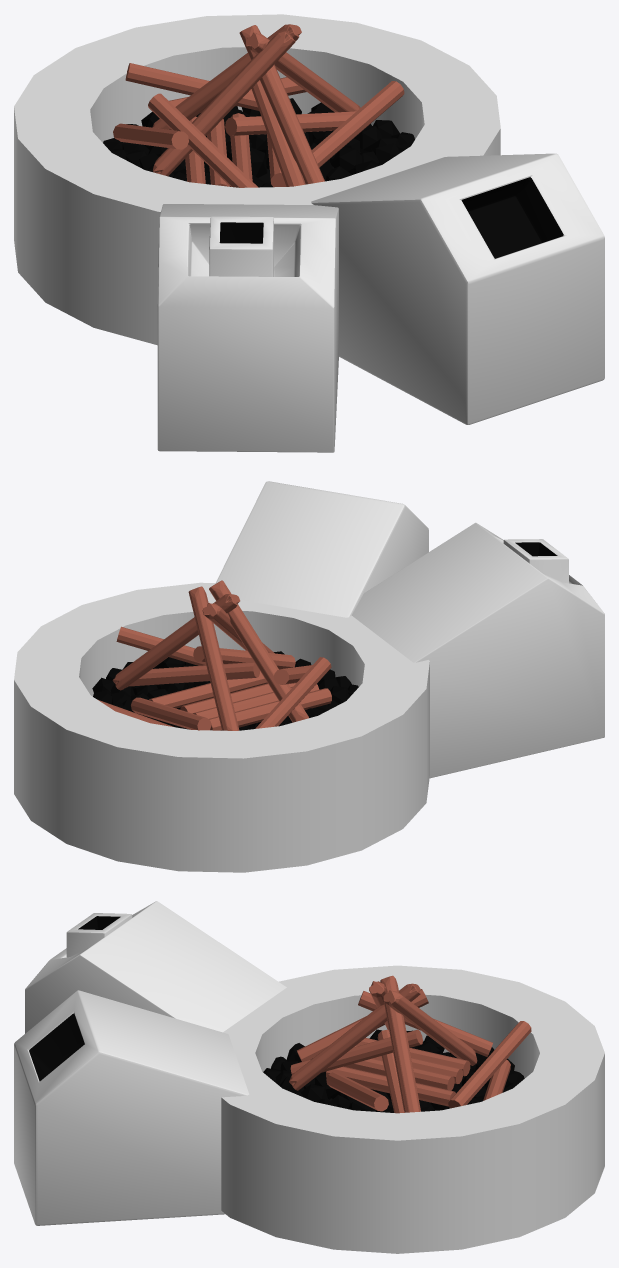
The model's file is LightHouseFireStagefbx.fbx.
The picture shows the model from 3 angles, top to bottom: view 1: azimuth 30°, elevation 25°; view 2: azimuth 150°, elevation 25°; view 3: azimuth 270°, elevation 25°; orthographic projection. The views are drawn at different scales.
Parts seen in each view (by area): view 1: Circle.002, Cube, Cube.004, Cylinder.001, Icosphere.010, Icosphere.012, Icosphere.009, Icosphere.011, Icosphere.013; view 2: Circle.002, Cube.004, Cube, Cylinder.001, Icosphere.010, Icosphere.009, Icosphere.011; view 3: Circle.002, Cube, Cube.004, Cylinder.001, Icosphere.009, Icosphere.012, Icosphere.010, Icosphere.013, Icosphere.011.
Part boxes in pixels (x1,y1,x2,y2): Circle.002: (14,14,500,345); Cube: (311,153,604,424); Cube.004: (157,204,338,452); Cylinder.001: (113,24,404,187); Icosphere.010: (122,108,399,167); Icosphere.012: (172,128,362,184); Icosphere.009: (103,98,414,159); Icosphere.011: (139,111,379,177); Icosphere.013: (204,139,332,187); Circle.002: (14,582,429,872); Cube.004: (351,522,604,778); Cube: (210,481,428,617); Cylinder.001: (97,580,331,730); Icosphere.010: (110,657,349,712); Icosphere.009: (92,651,358,704); Icosphere.011: (122,665,329,721); Circle.002: (221,965,604,1253); Cube: (14,990,249,1225); Cube.004: (25,901,286,1033); Cylinder.001: (289,975,531,1113); Icosphere.009: (263,1029,524,1091); Icosphere.012: (301,1071,462,1111); Icosphere.010: (275,1037,506,1100); Icosphere.013: (330,1088,438,1112); Icosphere.011: (280,1050,486,1104).
Size of the model in its own units: 157 by 71.49 by 195.
